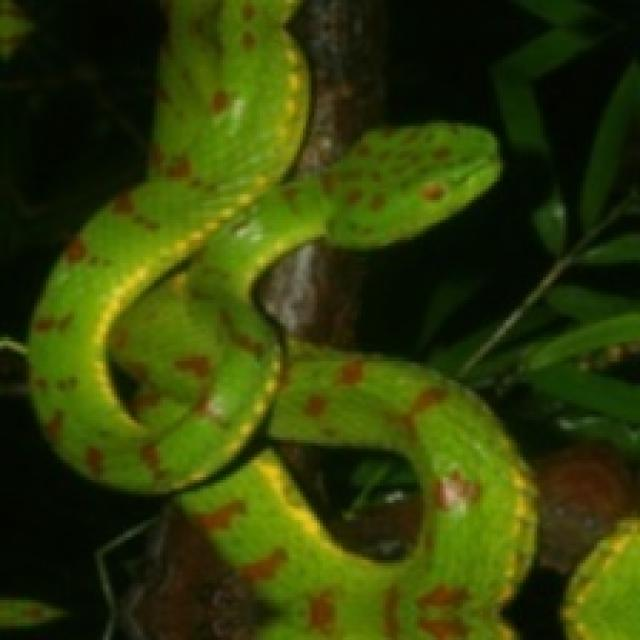philippine pitviper: (29, 0, 534, 637)
